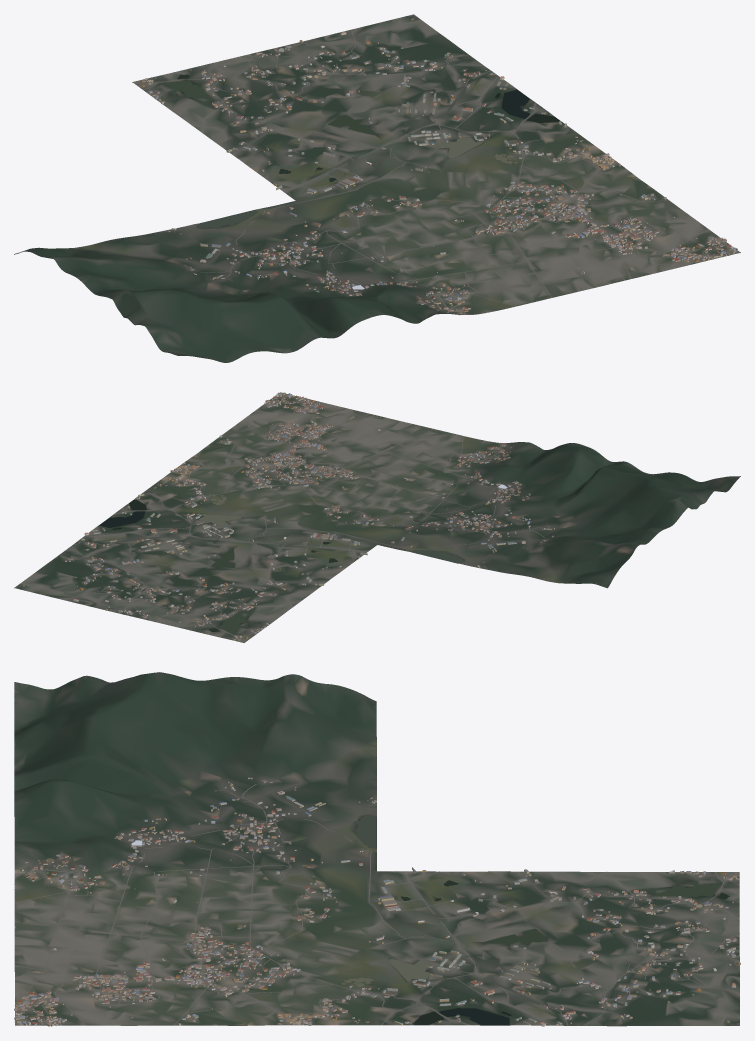
3 renders of one model, top to bottom at view 1: azimuth 30°, elevation 25°; view 2: azimuth 150°, elevation 25°; view 3: azimuth 270°, elevation 25°, orthographic. The views are drawn at different scales.
Parts seen in each view (by area): view 1: ground, buildings, roads, water; view 2: ground, buildings, roads, water; view 3: ground, buildings, roads, water.
Boxes of the visible parts, bbox=[...] form: ground: bbox=[14, 14, 740, 362]; buildings: bbox=[140, 18, 737, 315]; roads: bbox=[135, 29, 727, 314]; water: bbox=[161, 74, 640, 278]; ground: bbox=[14, 392, 740, 642]; buildings: bbox=[22, 392, 554, 640]; roads: bbox=[63, 397, 547, 641]; water: bbox=[99, 451, 507, 633]; ground: bbox=[14, 672, 739, 1026]; buildings: bbox=[14, 777, 740, 1026]; roads: bbox=[14, 784, 739, 1025]; water: bbox=[189, 814, 729, 1025].
Bounding box in the file's own units: 2803 × 241 × 2811.
